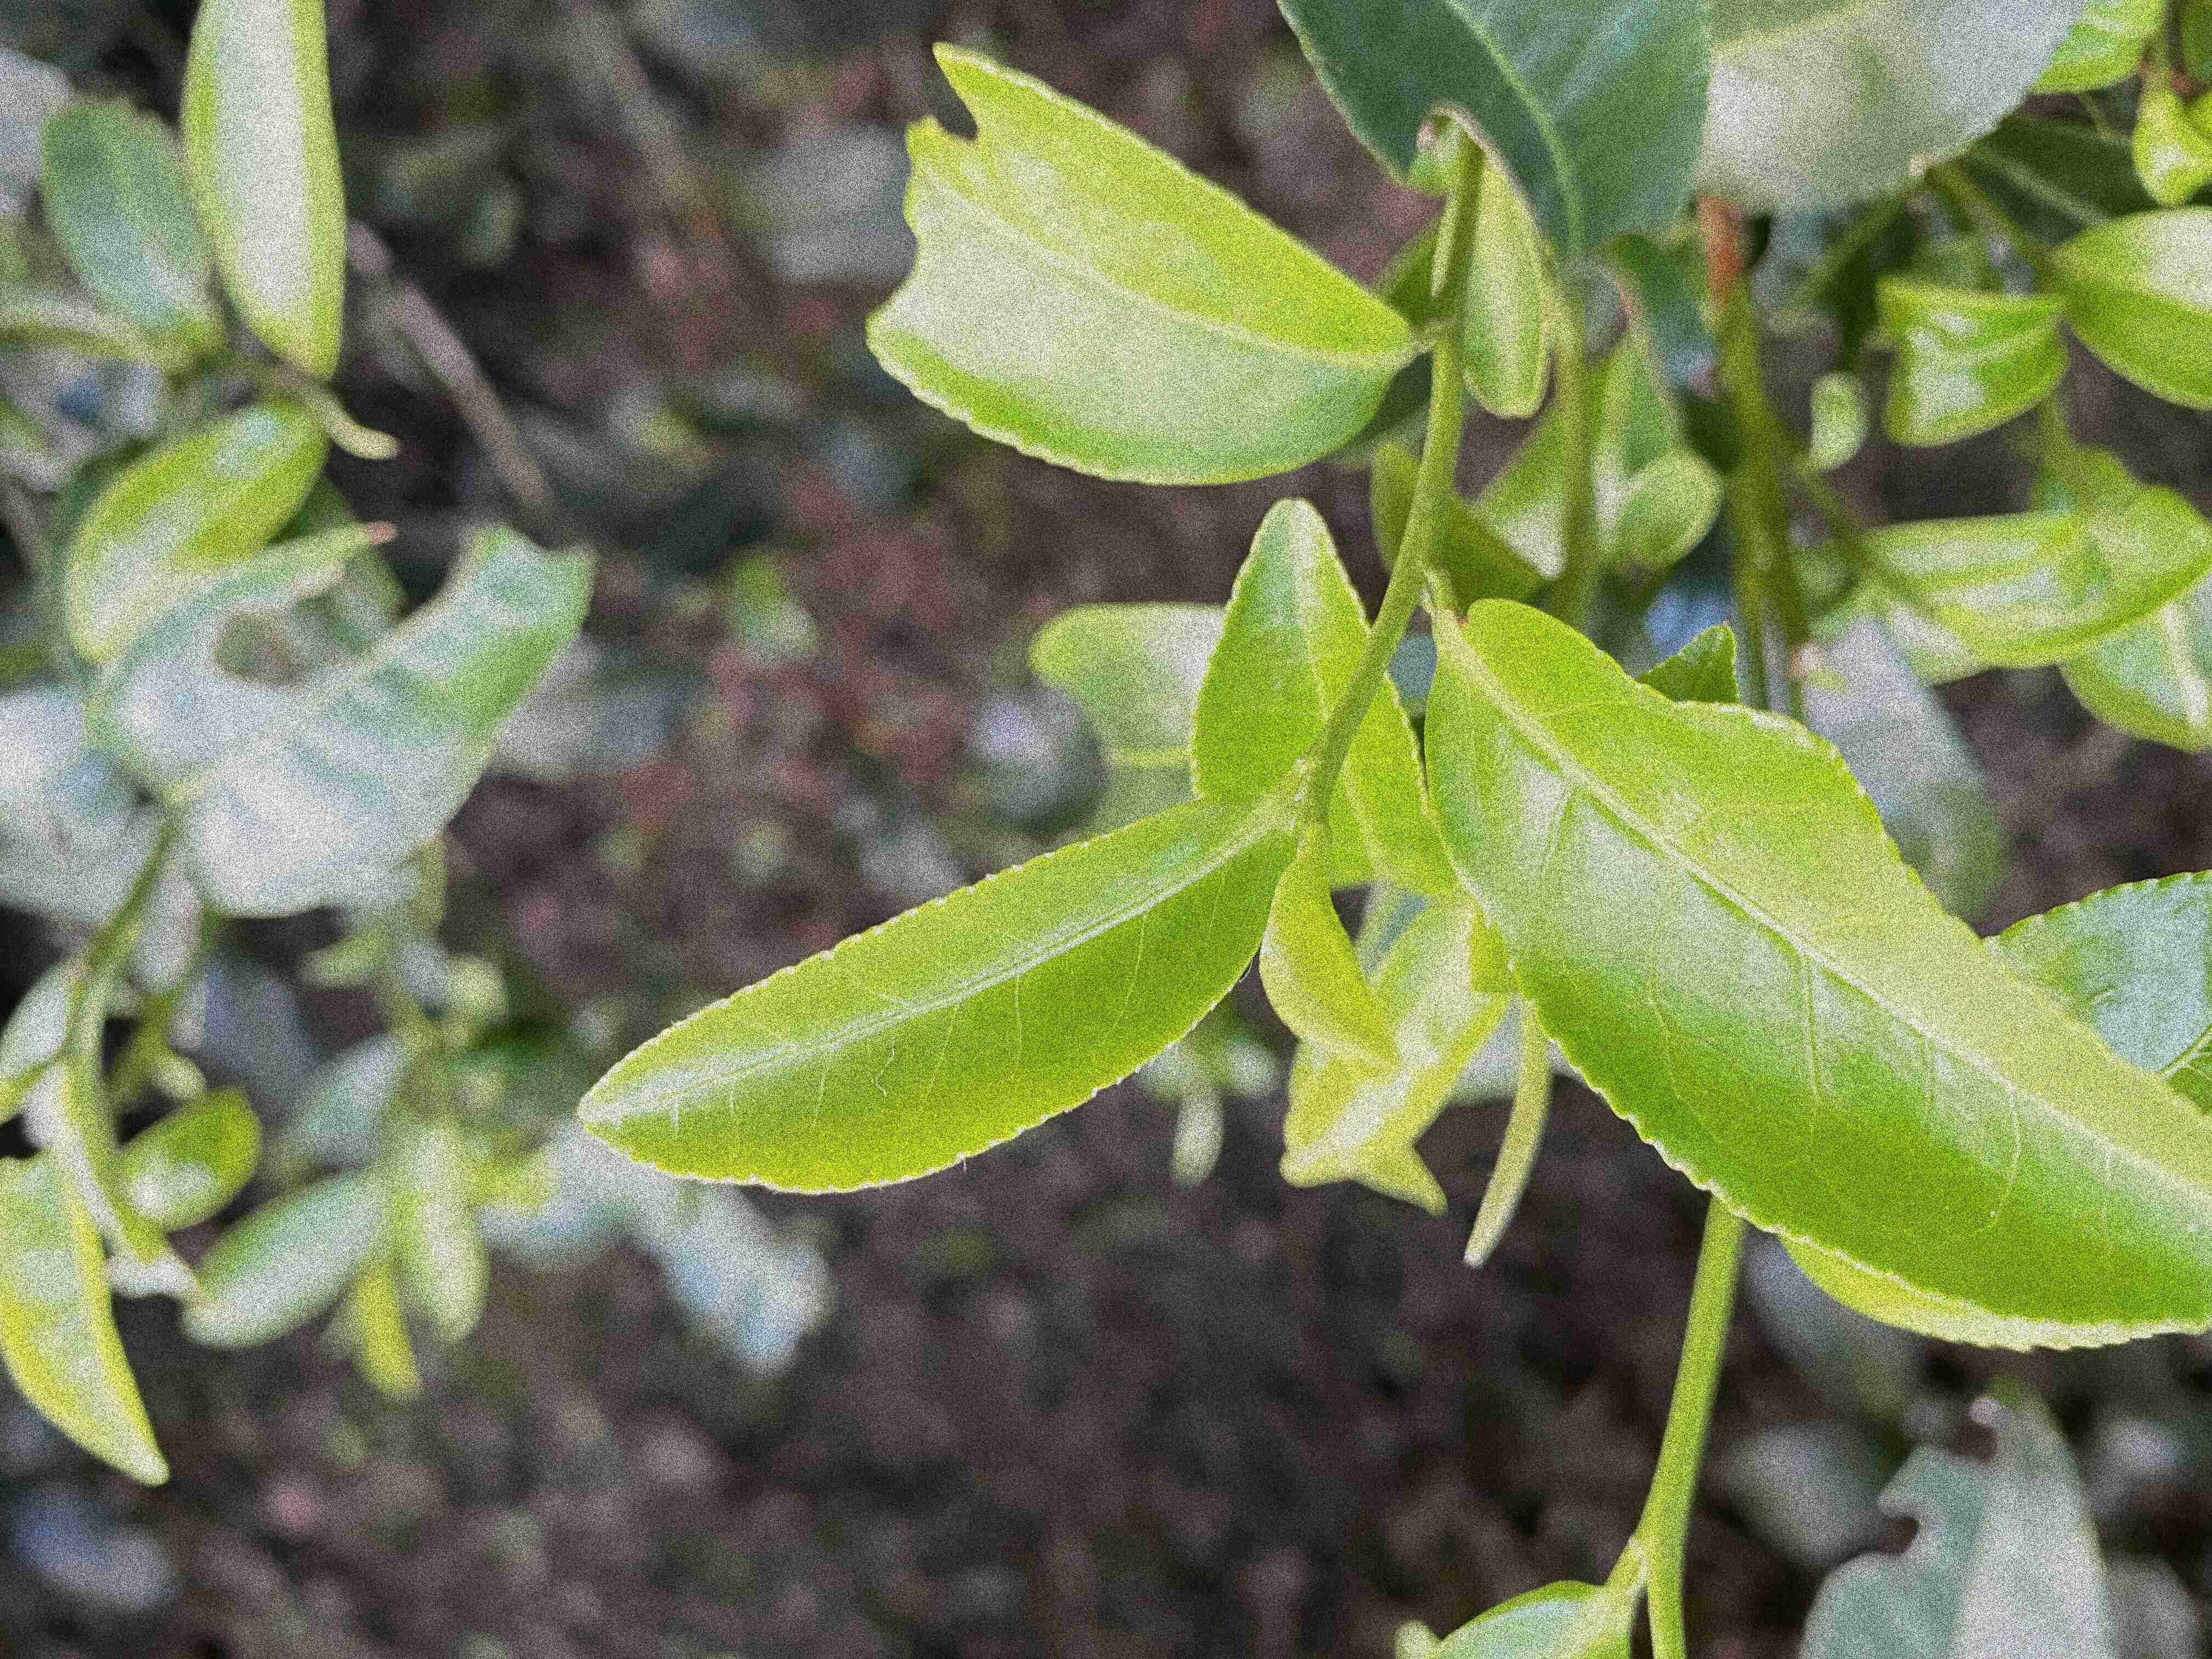chihuo_high: (860, 40, 1416, 493), (82, 512, 601, 922)
healthy: (1425, 592, 2207, 1330), (573, 793, 1308, 1199), (1184, 493, 1456, 903)
